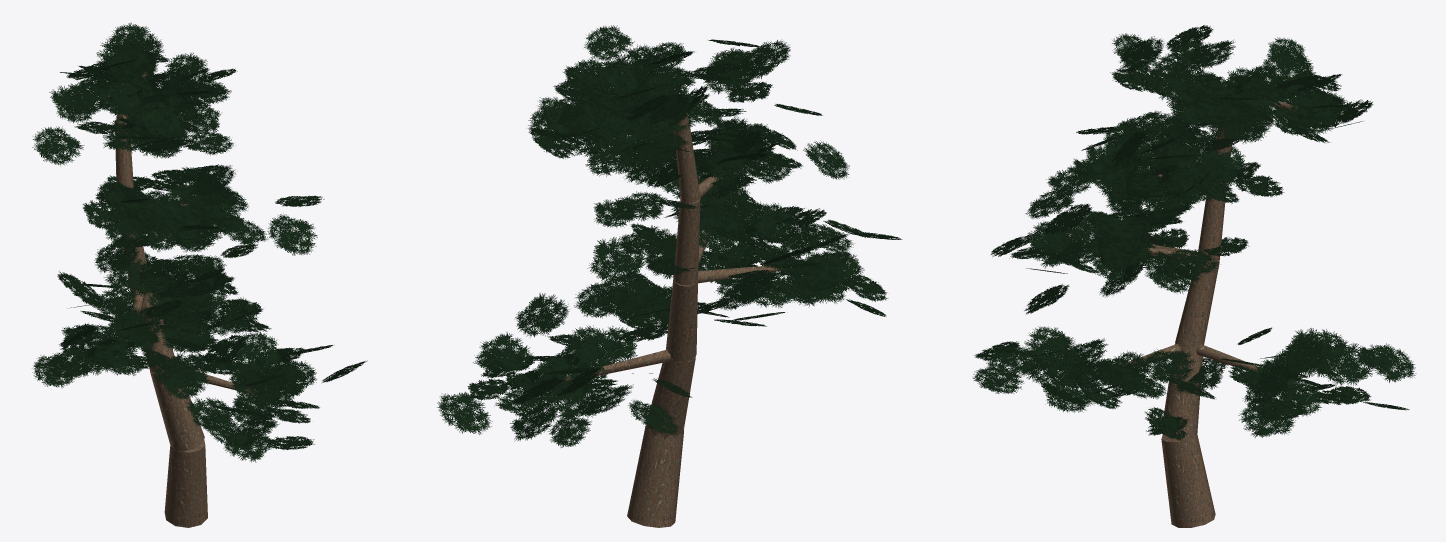
The model's file is Pine_1.fbx.
The picture shows the model from 3 angles, left to right: view 1: azimuth 30°, elevation 25°; view 2: azimuth 150°, elevation 25°; view 3: azimuth 270°, elevation 25°; orthographic projection. The views are drawn at different scales.
Visible parts, largest first — view 1: Pine_1; view 2: Pine_1; view 3: Pine_1.
Boxes of the visible parts, x1,y1,x2,y2 form: Pine_1: (32,22,367,527); Pine_1: (437,25,902,527); Pine_1: (973,25,1416,527).
Bounding box in the file's own units: 7.19 × 9.05 × 8.34.
